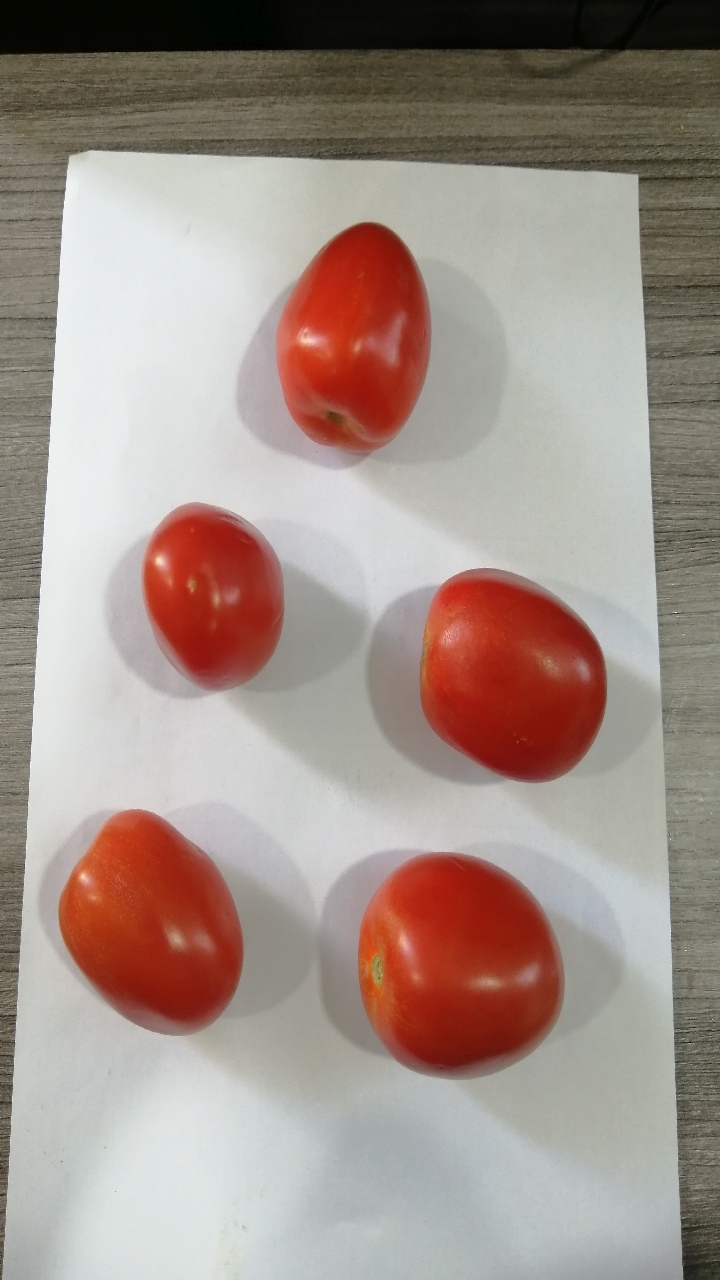tomateRojo: (381, 549, 628, 794), (343, 834, 571, 1099), (44, 789, 254, 1066), (246, 203, 440, 459), (124, 479, 301, 706)
